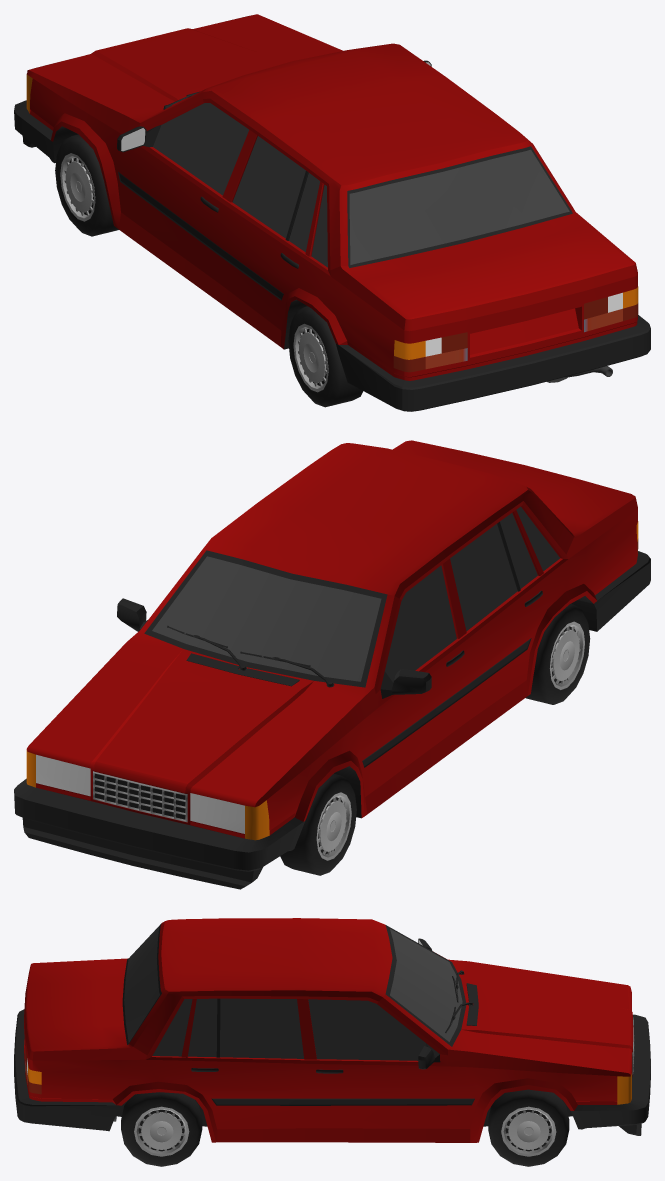
File: m8_sedan_dark_red.glb
3 views of the same model, one above another, from view 1: azimuth 30°, elevation 25°; view 2: azimuth 150°, elevation 25°; view 3: azimuth 270°, elevation 25° (orthographic). The views are drawn at different scales.
Visible parts, largest first — view 1: Body, Wheel_RL, Wheel_FL; view 2: Body, Wheel_FL, Wheel_RL, Interior; view 3: Body, Wheel_FR, Wheel_RR.
Part boxes in pixels (box(x1,y1,x2,y2)): Body: box(14, 14, 650, 411); Wheel_RL: box(288, 306, 363, 407); Wheel_FL: box(55, 134, 118, 236); Body: box(14, 440, 650, 889); Wheel_FL: box(280, 774, 356, 875); Wheel_RL: box(525, 604, 590, 704); Interior: box(167, 625, 334, 687); Body: box(14, 918, 650, 1142); Wheel_FR: box(488, 1089, 569, 1166); Wheel_RR: box(121, 1092, 202, 1166).
Bounding box in the file's own units: 2.13 × 1.39 × 4.78.
Materials: 1 (1 with a texture image).
